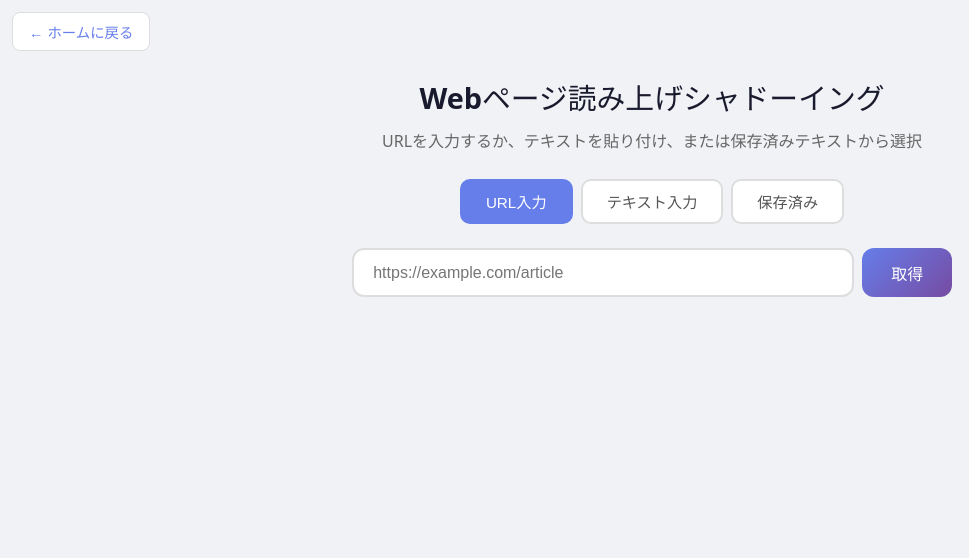
TextReaderPage › switches to text input mode
This screenshot has width=969, height=558.
Step 1. Click the button "テキスト入力" → {"x": 652, "y": 201}, box [581,179,723,224]
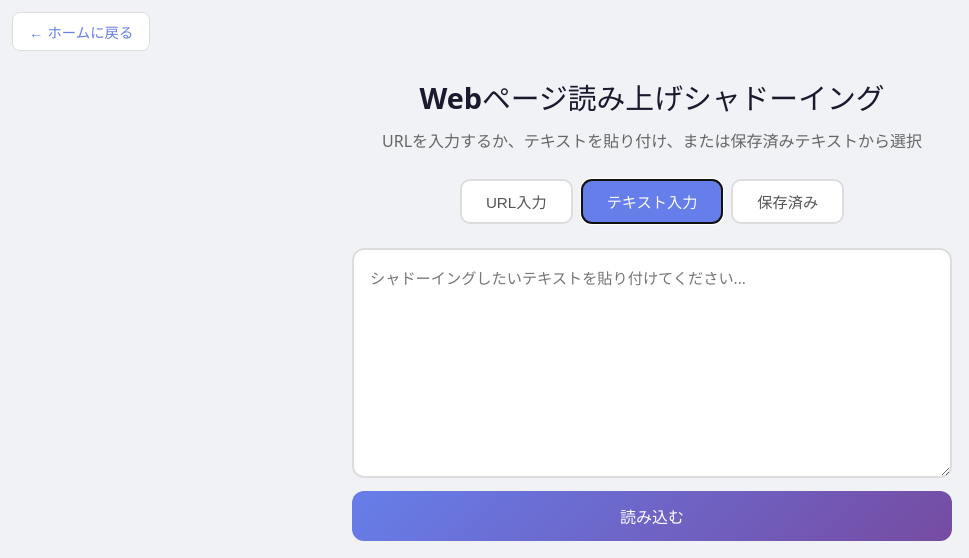
Expected: the text box with placeholder "シャドーイングしたいテキストを貼り付けてください..." is shown, [352,248,952,478]
Expected: the button "読み込む" is shown, [352,491,952,541]
